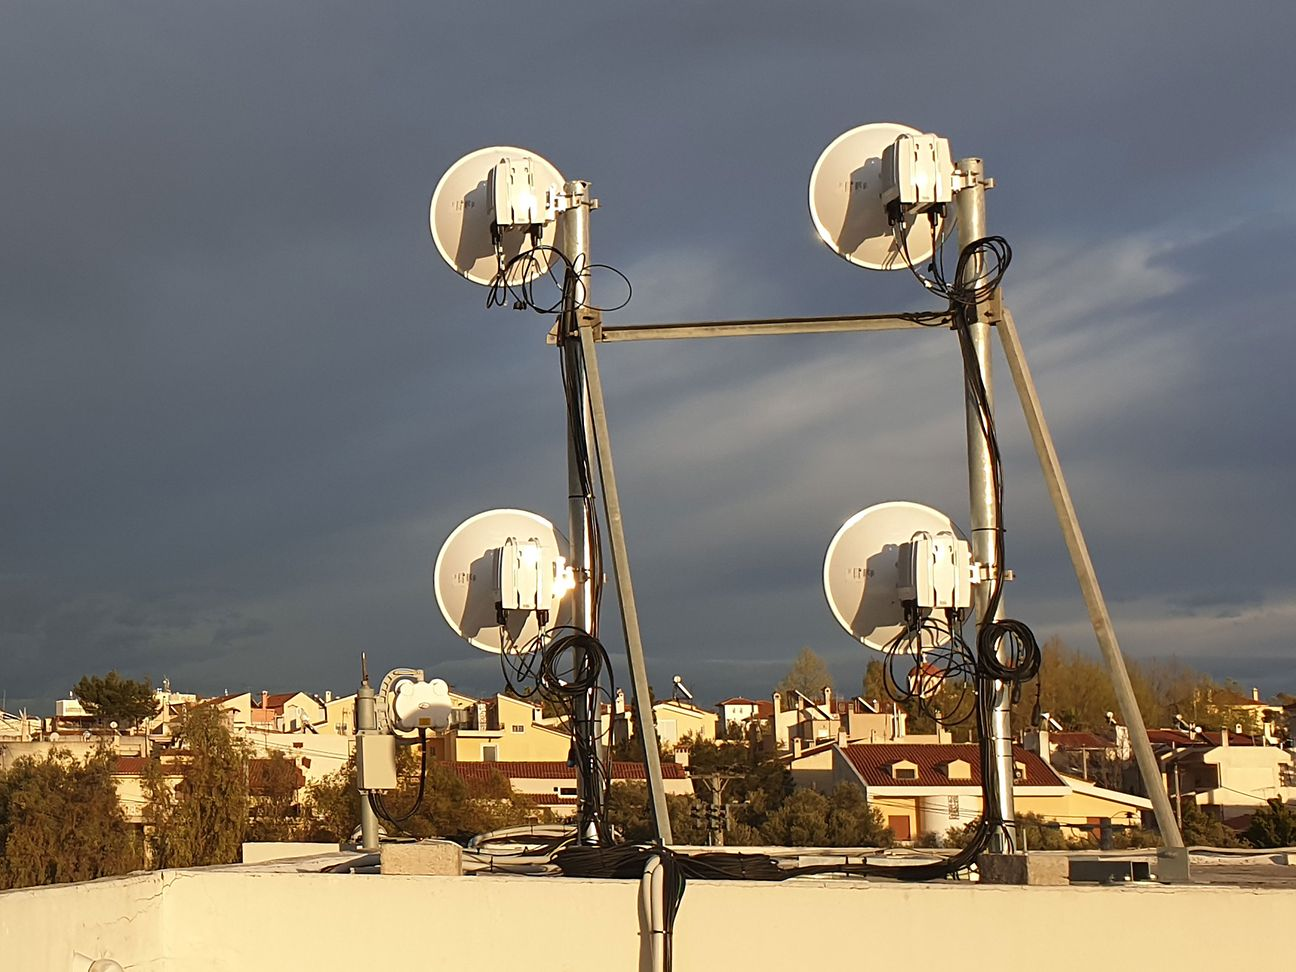ba: (385, 126, 589, 312), (785, 95, 978, 289), (794, 503, 992, 658), (425, 500, 600, 651)
